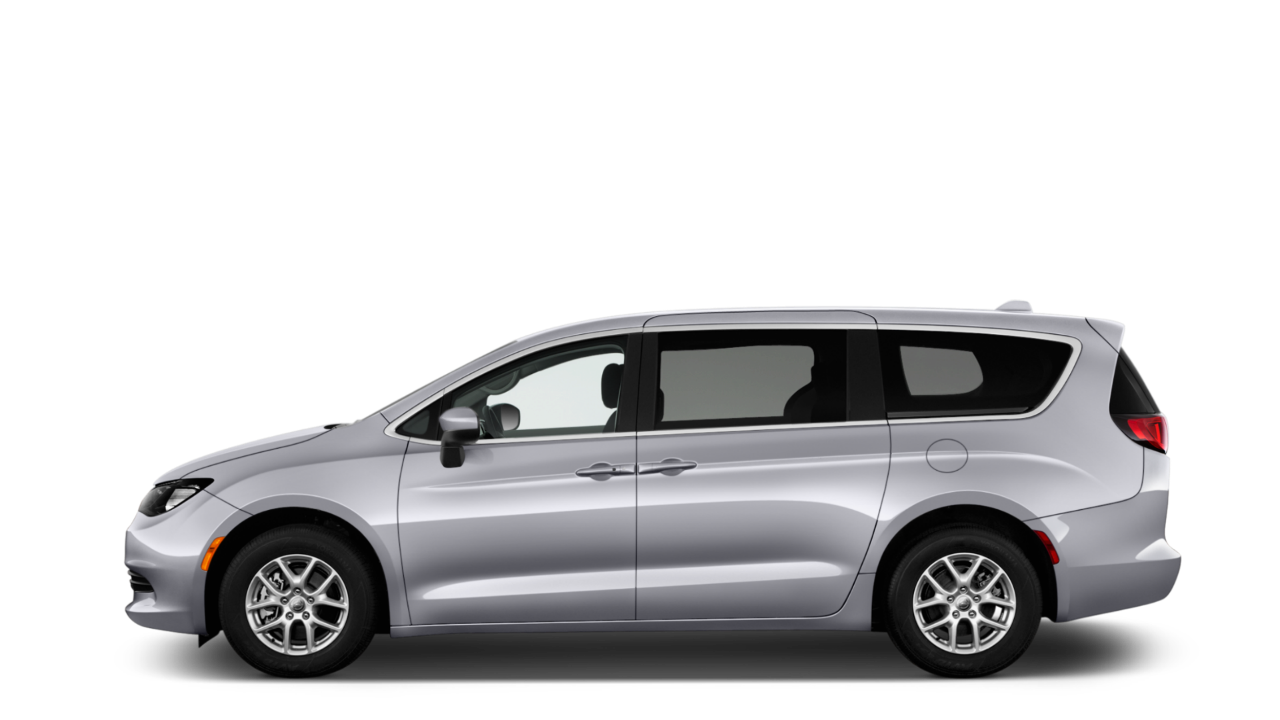car: (124, 291, 1245, 686)
